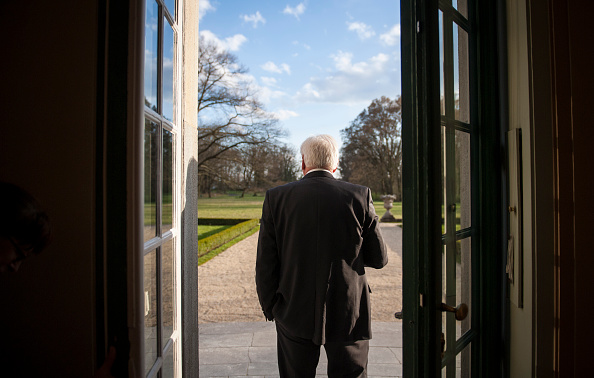em pe: (261, 129, 374, 378)
